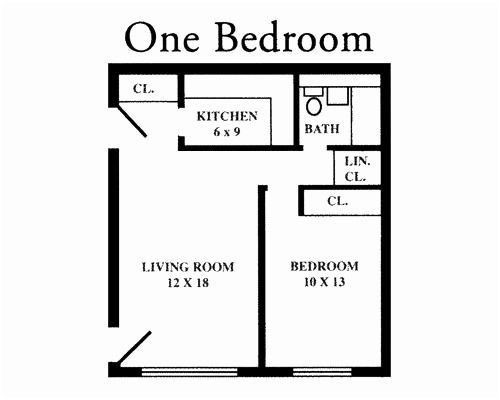room: (105, 57, 392, 383)
wall: (108, 60, 391, 81), (107, 144, 131, 329), (377, 64, 389, 371), (257, 180, 270, 367), (180, 135, 305, 152), (289, 72, 303, 151)
window: (134, 359, 235, 380), (291, 364, 354, 378)
